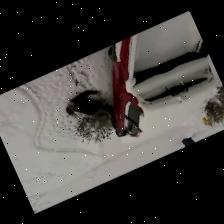person: (66, 89, 109, 117)
